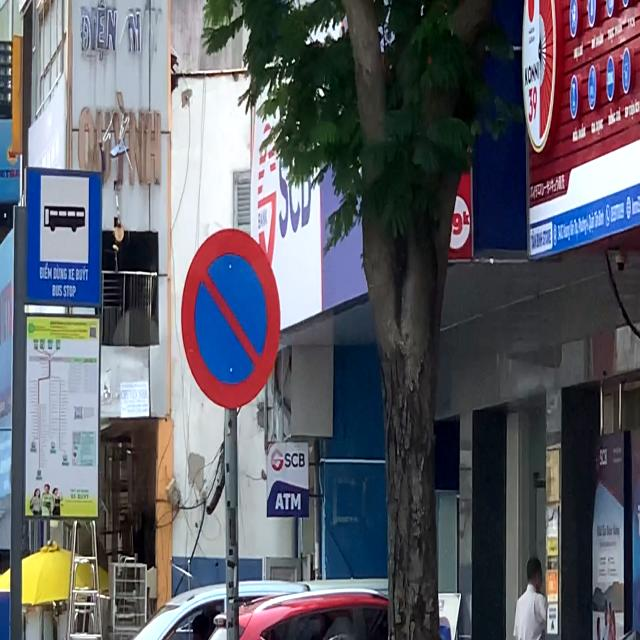P.131a: (183, 222, 280, 411)
